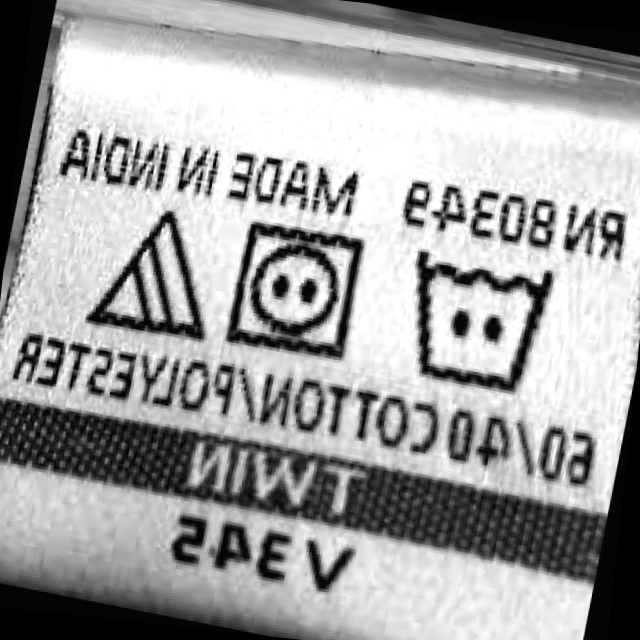40C: (384, 234, 570, 409)
non_chlorine_bleach: (79, 195, 236, 354)
tumble_dry_medium: (216, 209, 377, 369)
